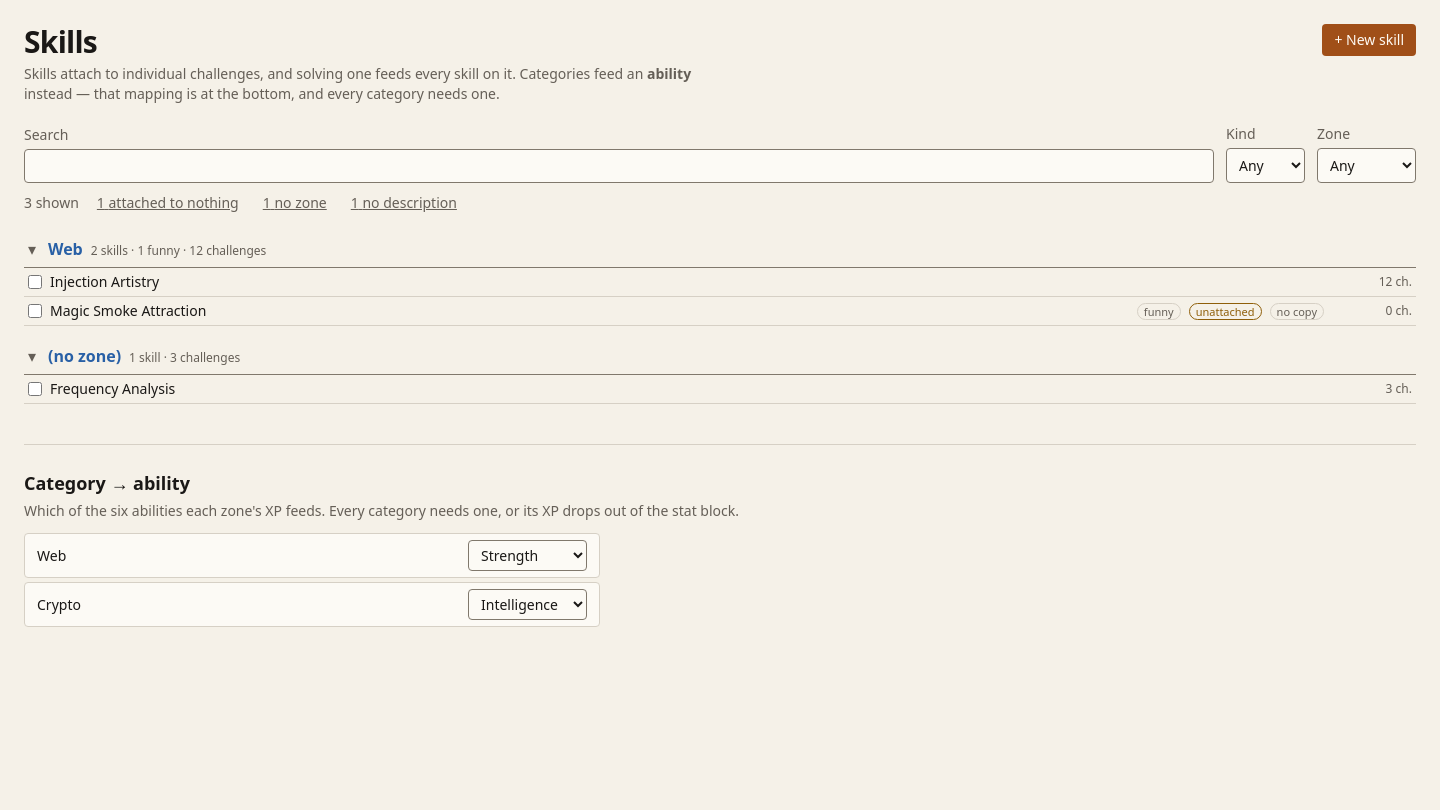
Test: AdminSkillsPage › warns before closing a drawer with unsaved changes
Click the button "Injection Artistry" at (105, 282), box [50,272,1324,292]
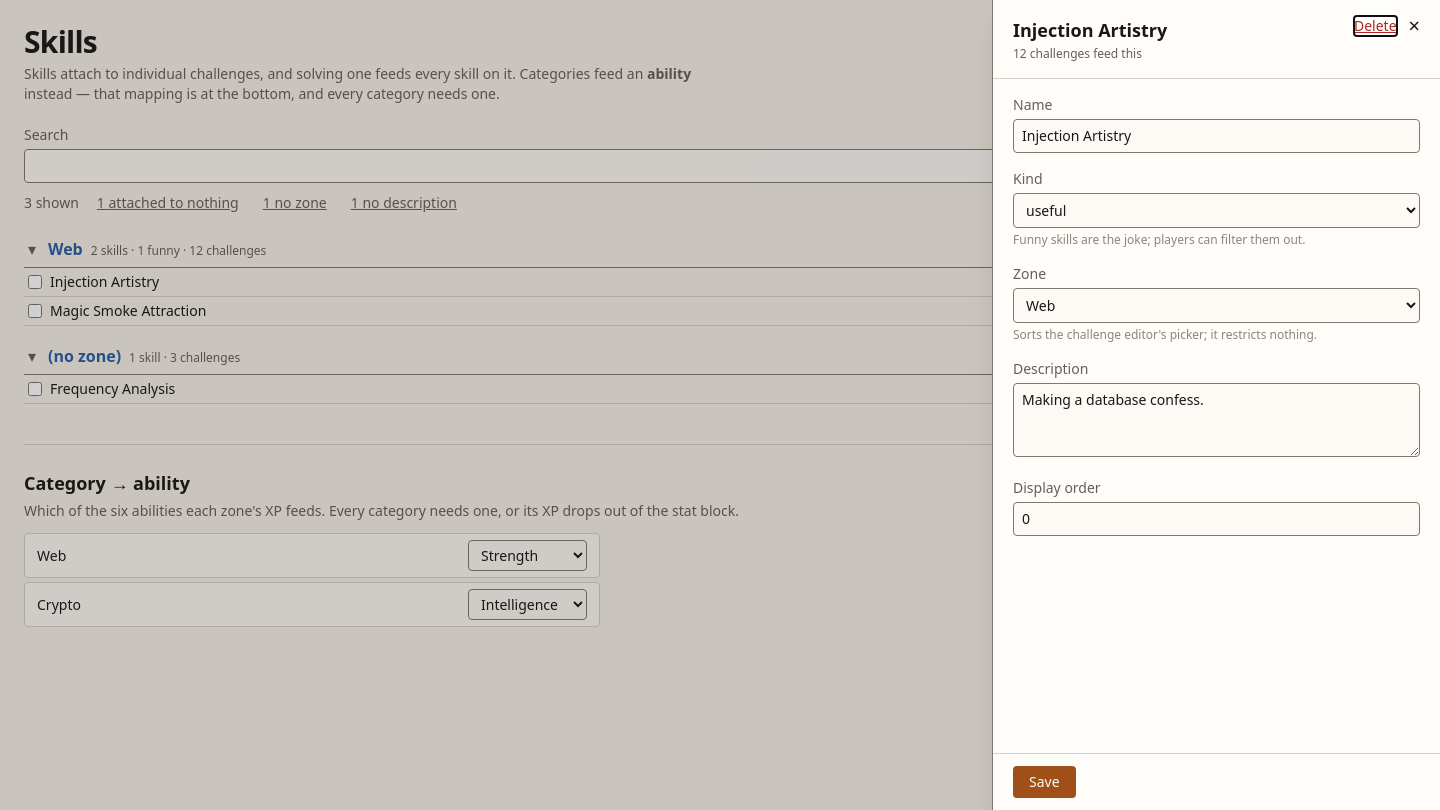
Type "!" into the field named "Skill name" at (1216, 136), box [1013,119,1420,153]
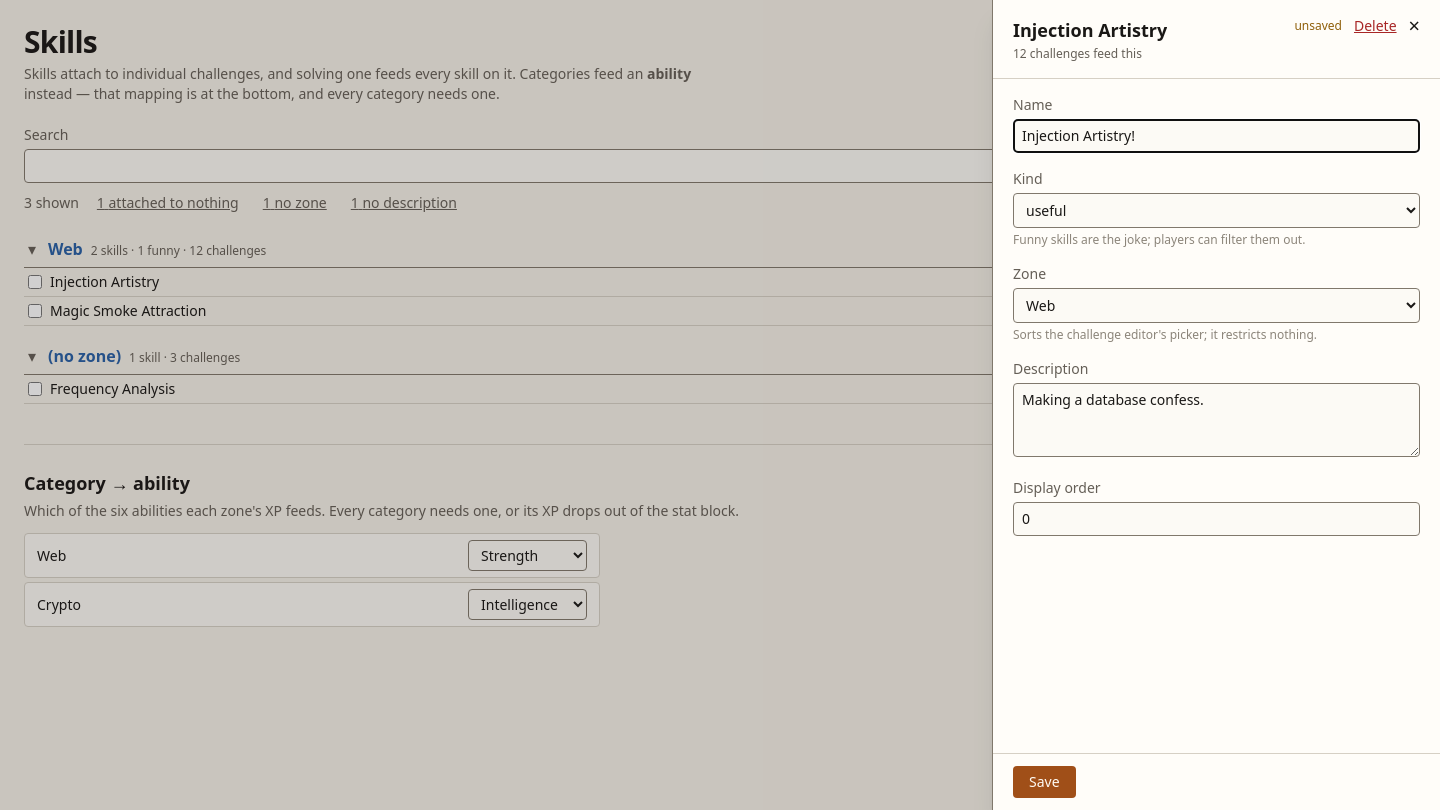
Click the button named "Close editor" at (1414, 26), box [1408,16,1420,36]
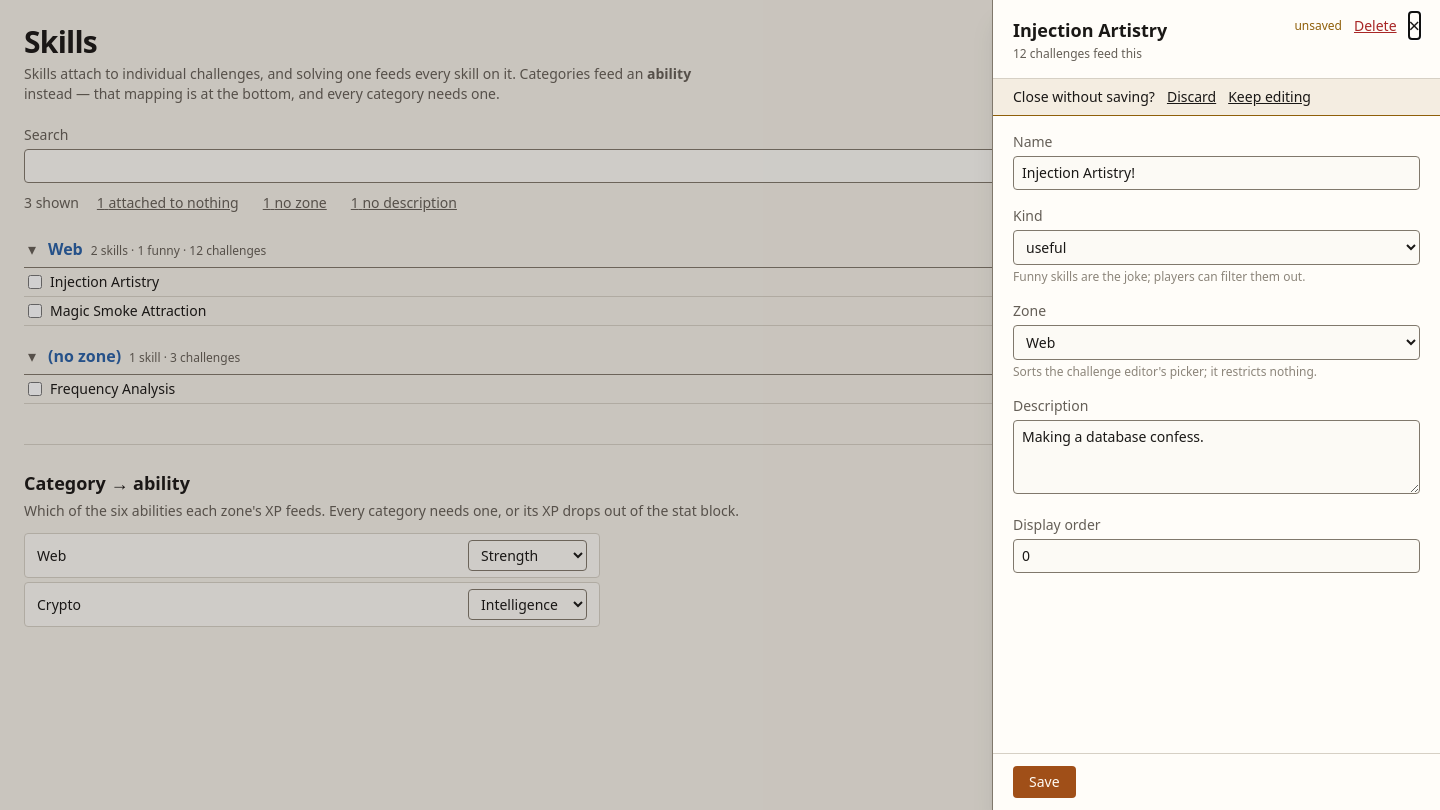
Now the text "Close without saving?" is shown, box [1013,87,1155,106]
Click the button "Discard" at (1192, 97), box [1167,87,1216,107]
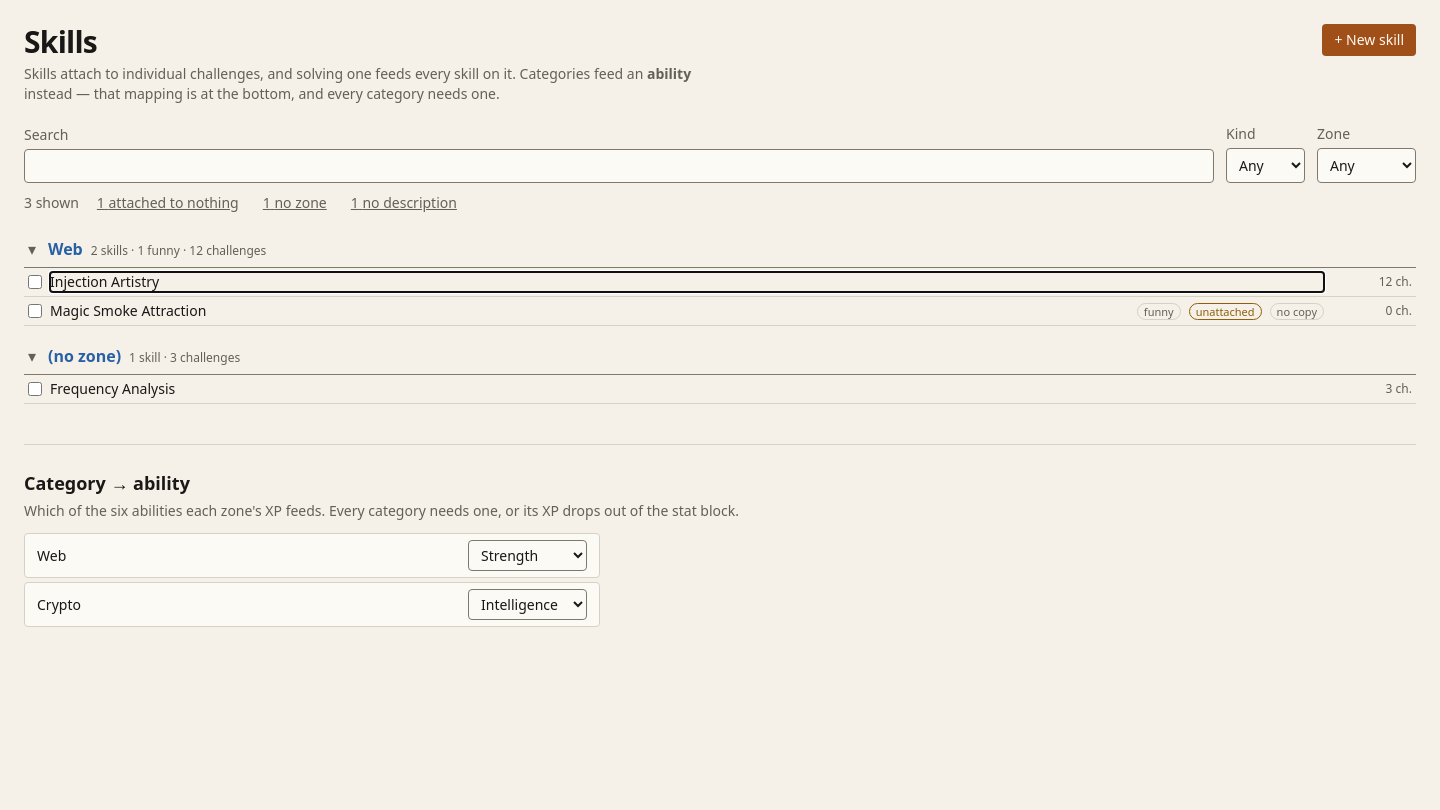
Now the dialog is gone
